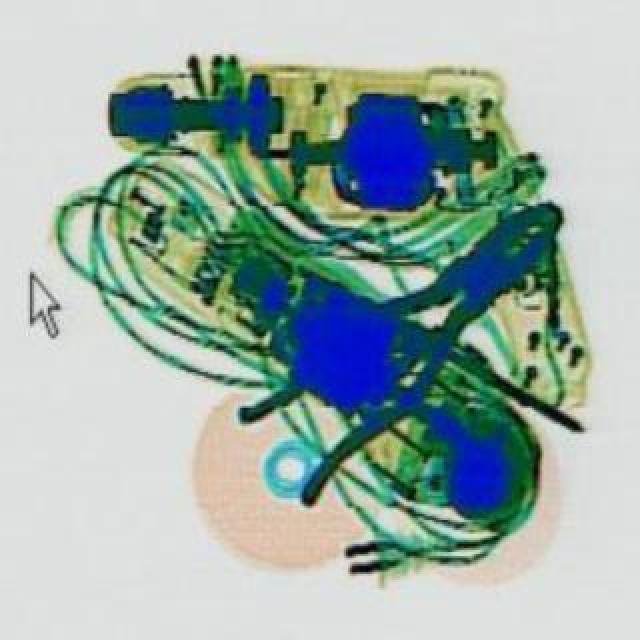wrench: (214, 162, 602, 504)
